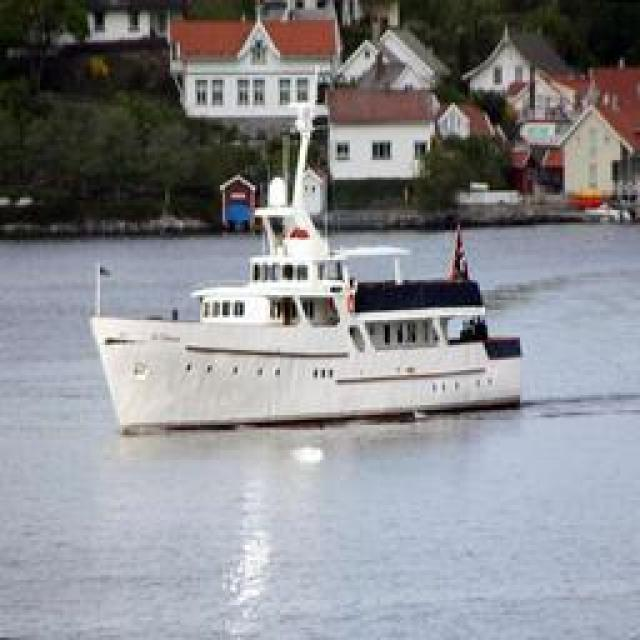ship2: (89, 106, 523, 438)
